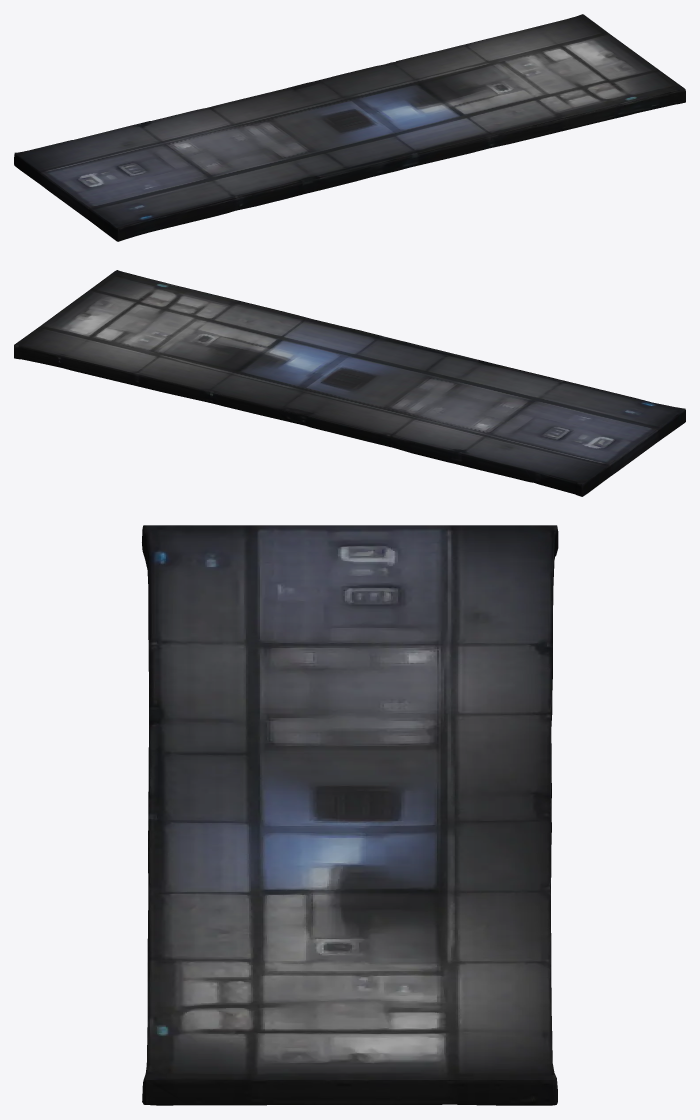
The model's file is security-wall-panels.glb.
3 renders of one model, top to bottom at view 1: azimuth 30°, elevation 25°; view 2: azimuth 150°, elevation 25°; view 3: azimuth 270°, elevation 25°, orthographic. The views are drawn at different scales.
Visible parts, largest first — view 1: geometry_0; view 2: geometry_0; view 3: geometry_0.
Part boxes in pixels (x1,y1,x2,y2): geometry_0: (14, 14, 685, 241); geometry_0: (14, 270, 685, 496); geometry_0: (142, 525, 558, 1105).
Bounding box in the file's own units: 1 × 0.0233 × 0.3169.
Materials: 1 (1 with a texture image).
